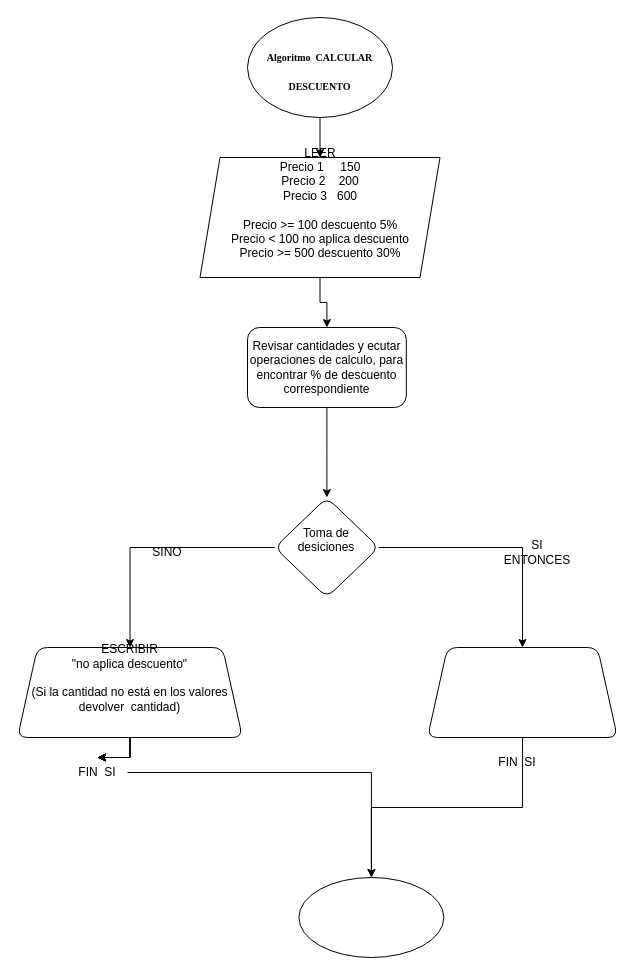
Image size: 635x975. Some labels were removed from this diagram. The shapes that lost their labels are listed below. From the top down, each one's box as (x1, y1, x2, y2) in pixels, then its label:
(426, 646, 618, 738): ESCRIBIR "Precio total con descuento" (cantidad correspondiente al descuento)
(298, 876, 444, 958): FIN
